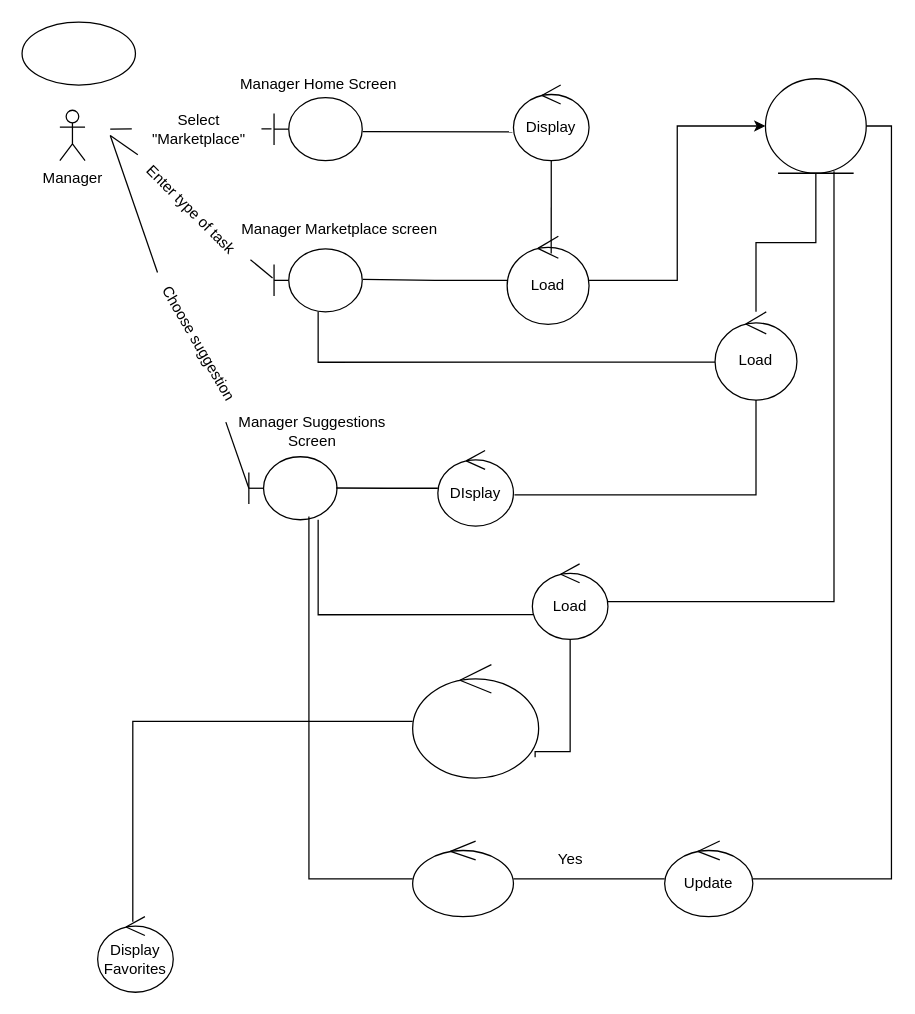
The diagram is 915 pixels wide and 1014 high, and some of its shapes have lost their labels. Each missing label, with the box of its shape:
Add to Favorites: (411, 840, 513, 917)
Display suggestion chosen details: (411, 663, 539, 778)
Marketplace: (21, 21, 135, 85)
Task List: (764, 77, 866, 173)
